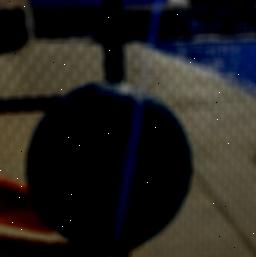algae: (22, 78, 196, 254)
